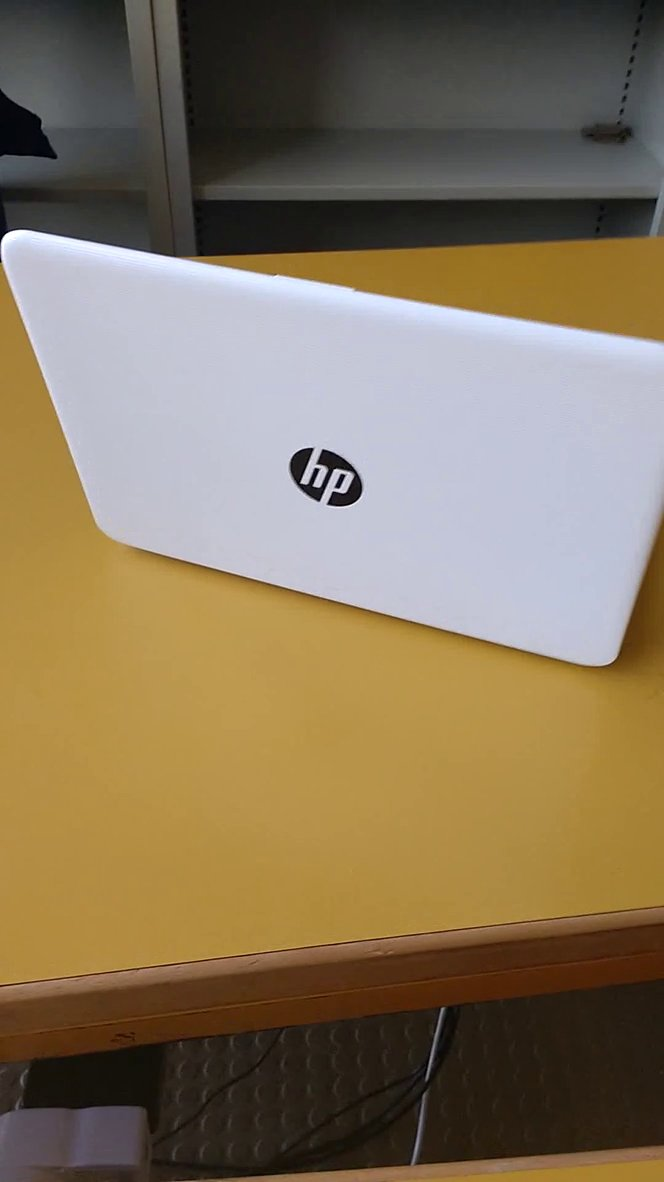laptop: (2, 212, 664, 679)
